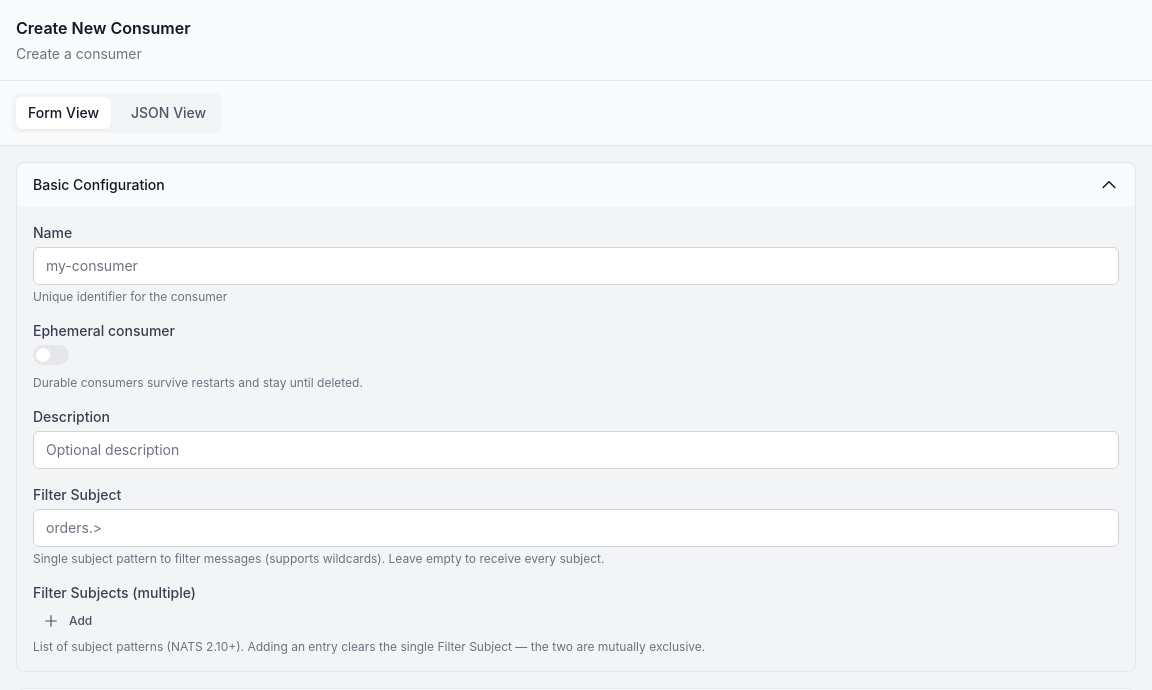
it: ConsumerEditor ephemeral toggle › explains what an ephemeral consumer costs the user
Step 1. Click the switch with test id "consumer-ephemeral-toggle" → (51, 355), box top-left (33, 345), bottom-right (69, 365)
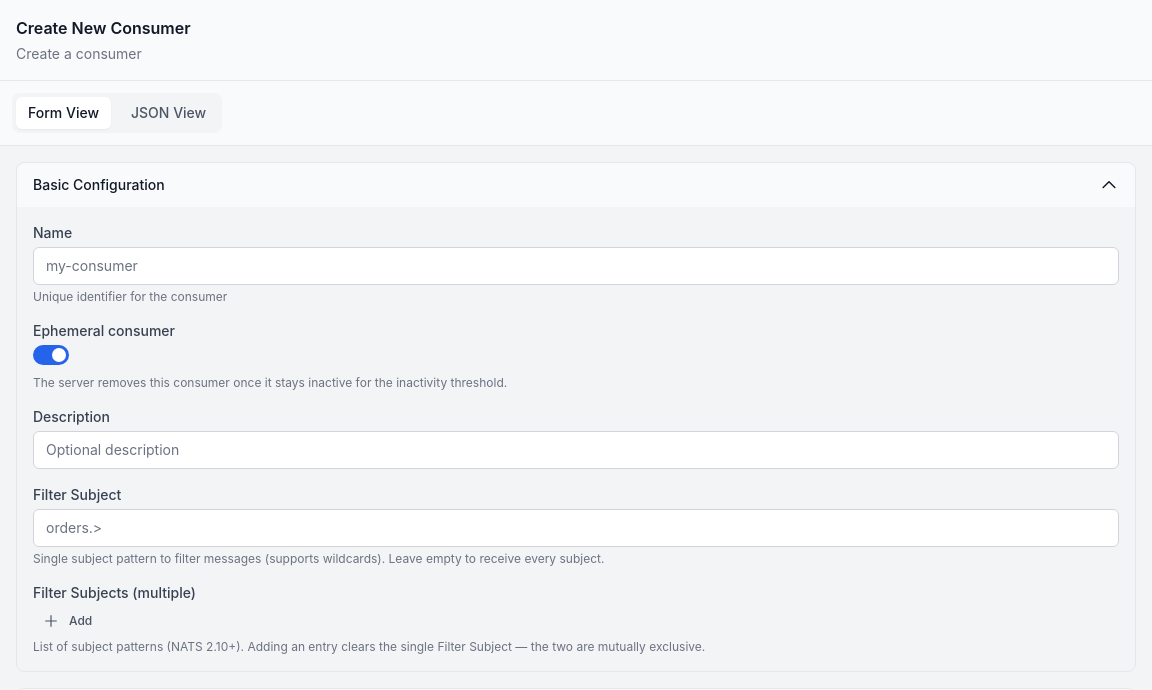
Now the text "removes this consumer" is shown, box top-left (33, 375), bottom-right (507, 390)
